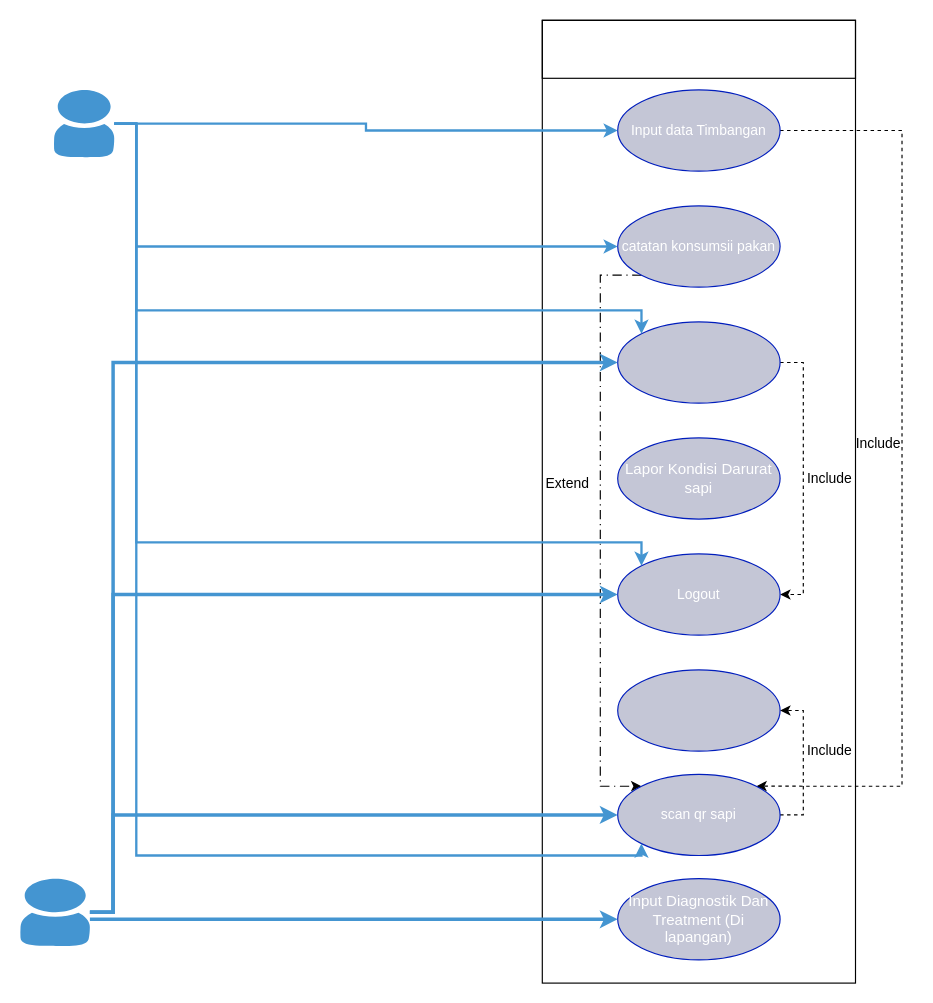
The diagram is 933 pixels wide and 1003 high, and some of its shapes have lost their labels. Here are the shapes that lost their labels. From the top down, the box of each, then its label:
(541, 19, 855, 78): Aplikasi Mobile
(617, 321, 780, 403): Login
(617, 669, 780, 751): Lihat Profil sapi
